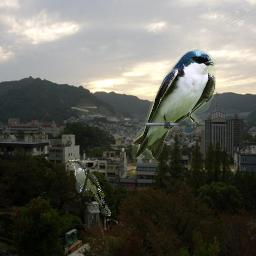Cuckoo: (68, 159, 111, 216)
Swallow: (131, 49, 216, 159)
